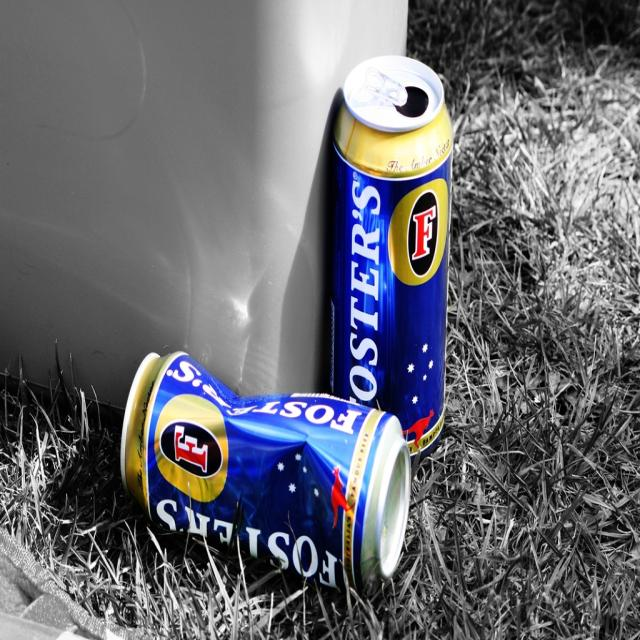fosters: (153, 393, 232, 504), (386, 177, 452, 289)
